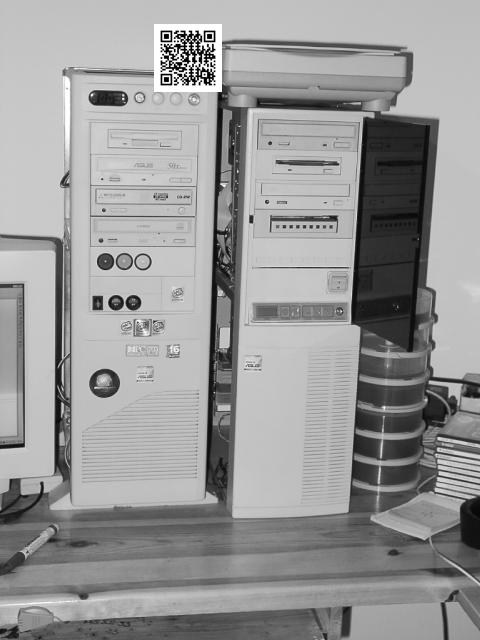qr_code: (154, 24, 222, 91)
